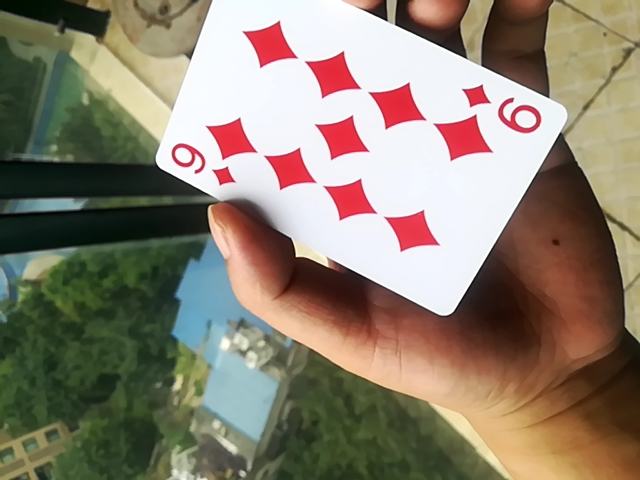fk 9: (146, 1, 581, 324)
